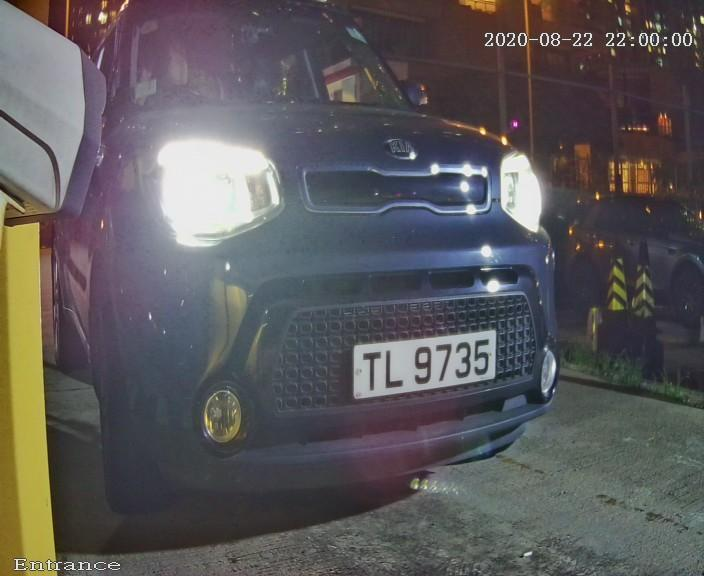Car: (32, 8, 610, 530)
License Plate: (343, 322, 507, 404)
